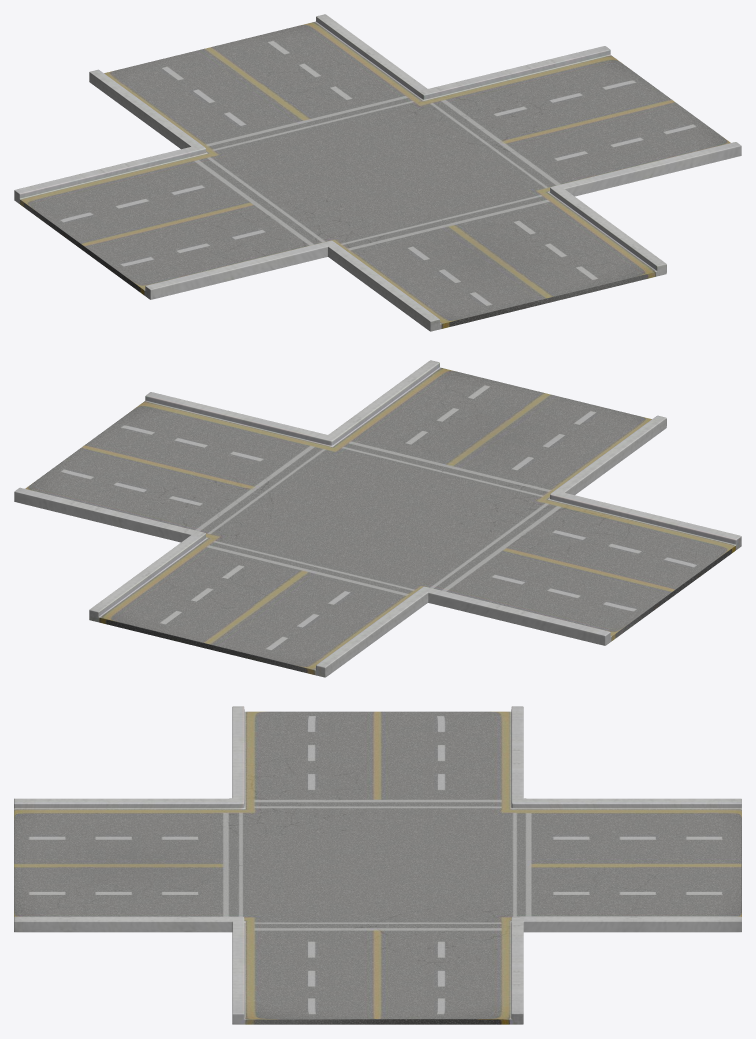
Rendered from road4.glb.
3 views of the same model, one above another, from view 1: azimuth 30°, elevation 25°; view 2: azimuth 150°, elevation 25°; view 3: azimuth 270°, elevation 25° (orthographic). The views are drawn at different scales.
Parts seen in each view (by area): view 1: 10562_RoadSectionCross_v2-L3; view 2: 10562_RoadSectionCross_v2-L3; view 3: 10562_RoadSectionCross_v2-L3.
Part boxes in pixels (x1=…): 10562_RoadSectionCross_v2-L3: x1=14, y1=14, x2=741, y2=331; 10562_RoadSectionCross_v2-L3: x1=14, y1=360, x2=741, y2=677; 10562_RoadSectionCross_v2-L3: x1=14, y1=706, x2=741, y2=1024.
Bounding box in the file's own units: 18.29 × 0.3048 × 18.29.
Materials: 1 (1 with a texture image).
